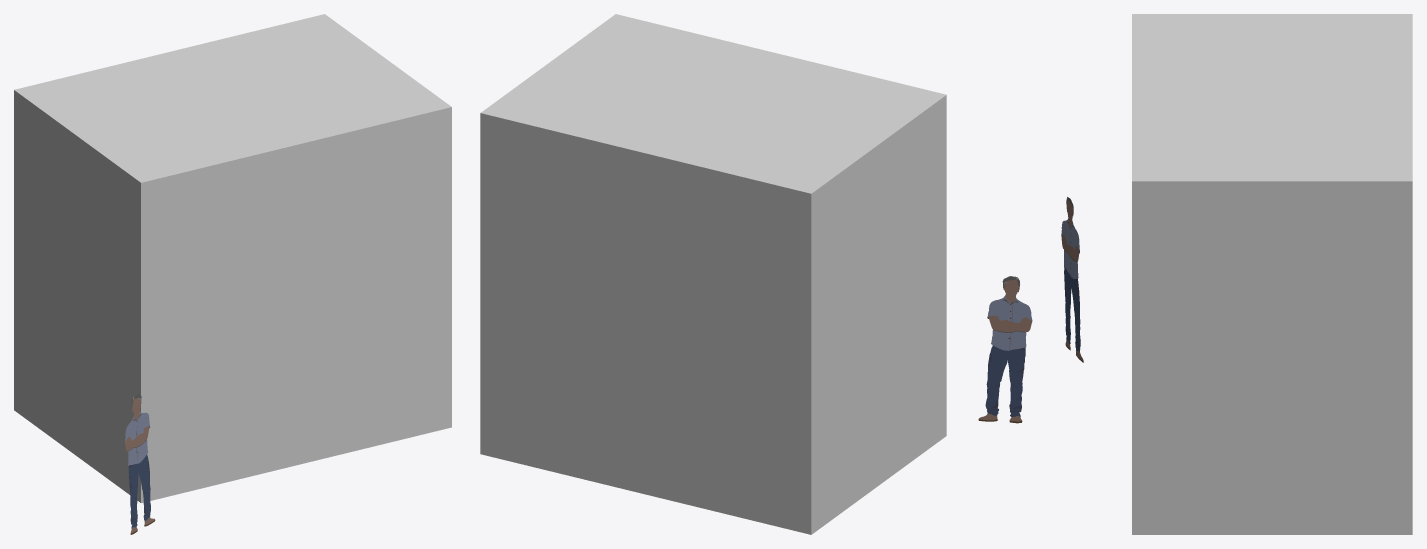
3 views of the same model, side by side, from view 1: azimuth 30°, elevation 25°; view 2: azimuth 150°, elevation 25°; view 3: azimuth 270°, elevation 25° (orthographic). The views are drawn at different scales.
Parts seen in each view (by area): view 1: Model, Niraj1; view 2: Model, Niraj1; view 3: Model, Niraj1.
Part boxes in pixels (x1=…): Model: x1=14, y1=14, x2=451, y2=503; Niraj1: x1=125, y1=394, x2=155, y2=534; Model: x1=480, y1=14, x2=946, y2=534; Niraj1: x1=978, y1=276, x2=1032, y2=423; Model: x1=1132, y1=14, x2=1412, y2=534; Niraj1: x1=1061, y1=197, x2=1083, y2=362.
Bounding box in the file's own units: 192 × 164 × 147.
